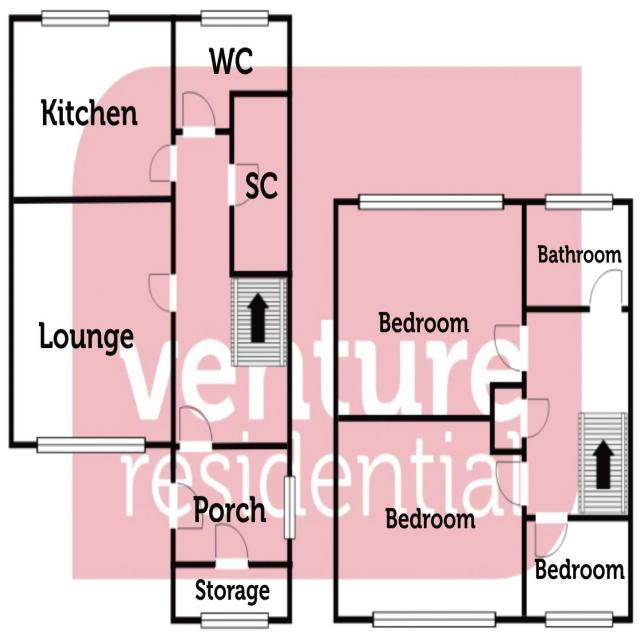DOOR: (492, 321, 528, 373), (178, 403, 213, 454), (181, 89, 216, 139), (170, 480, 204, 531), (534, 511, 569, 559), (494, 460, 529, 507), (588, 268, 623, 312), (146, 271, 176, 315), (148, 142, 176, 183)
ROOM: (333, 193, 527, 422), (9, 195, 177, 454), (333, 415, 529, 628), (9, 10, 176, 203), (521, 512, 633, 628)
WINDOW: (357, 192, 506, 212), (372, 610, 497, 628), (35, 435, 147, 455), (40, 9, 111, 28), (200, 9, 270, 28), (545, 610, 614, 628), (545, 193, 614, 211), (283, 475, 296, 540)
